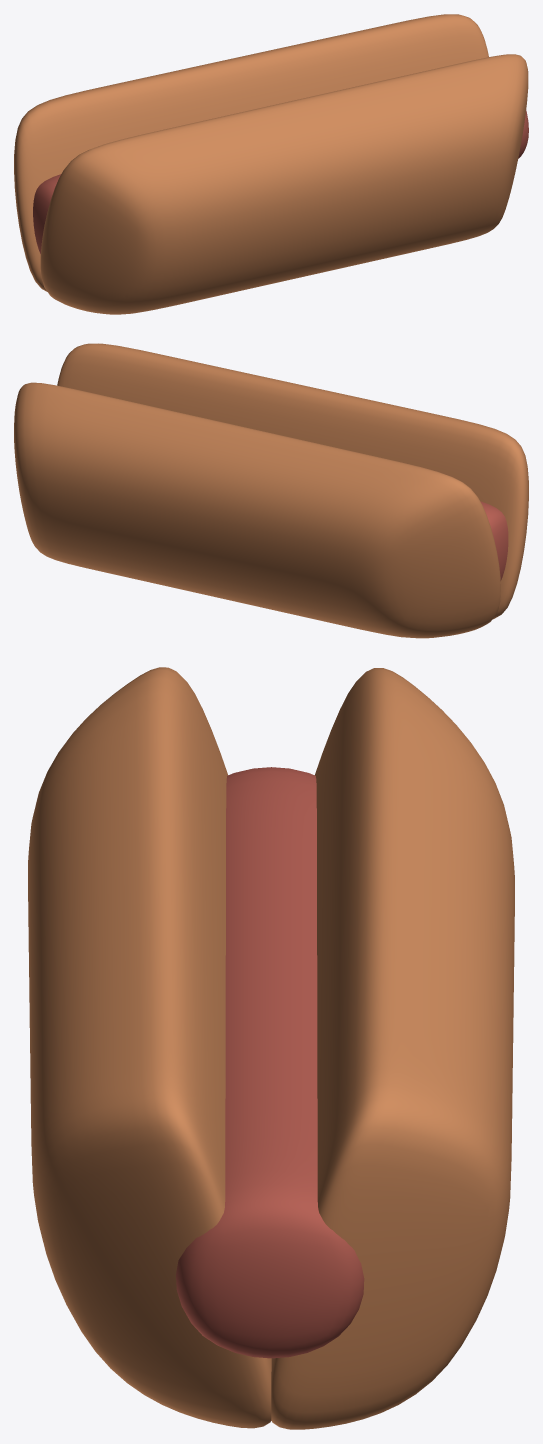
The model's file is Hotdog.fbx.
3 renders of one model, top to bottom at view 1: azimuth 30°, elevation 25°; view 2: azimuth 150°, elevation 25°; view 3: azimuth 270°, elevation 25°, orthographic. The views are drawn at different scales.
Parts seen in each view (by area): view 1: Cube.004, Cube.005; view 2: Cube.004, Cube.005; view 3: Cube.004, Cube.005.
Part boxes in pixels (x1,y1,x2,y2): Cube.004: [14, 14, 528, 314]; Cube.005: [33, 110, 528, 254]; Cube.004: [14, 343, 528, 638]; Cube.005: [480, 501, 508, 580]; Cube.004: [28, 667, 514, 1429]; Cube.005: [176, 767, 364, 1358].
Size of the model in its own units: 9.8 by 8.16 by 22.25.
